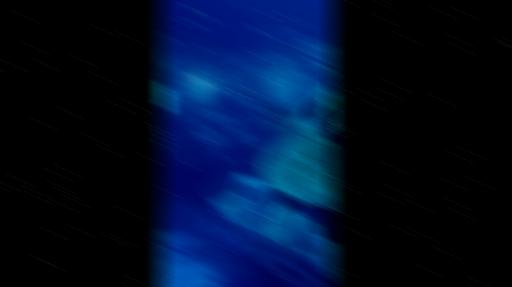Fish: (275, 190, 334, 239), (307, 93, 334, 126), (264, 106, 301, 129), (272, 29, 313, 42), (274, 190, 299, 209), (318, 123, 335, 144), (262, 239, 281, 256), (236, 184, 260, 195), (298, 238, 311, 251), (250, 24, 263, 35), (252, 91, 262, 104), (256, 144, 265, 157), (159, 109, 172, 118), (183, 5, 198, 12), (187, 19, 200, 26), (260, 79, 268, 88), (252, 116, 258, 127), (263, 31, 272, 38), (298, 17, 307, 24), (175, 18, 183, 25), (199, 44, 207, 51), (253, 164, 264, 169), (178, 41, 188, 46), (204, 16, 214, 21), (175, 58, 181, 63), (174, 29, 182, 32)
